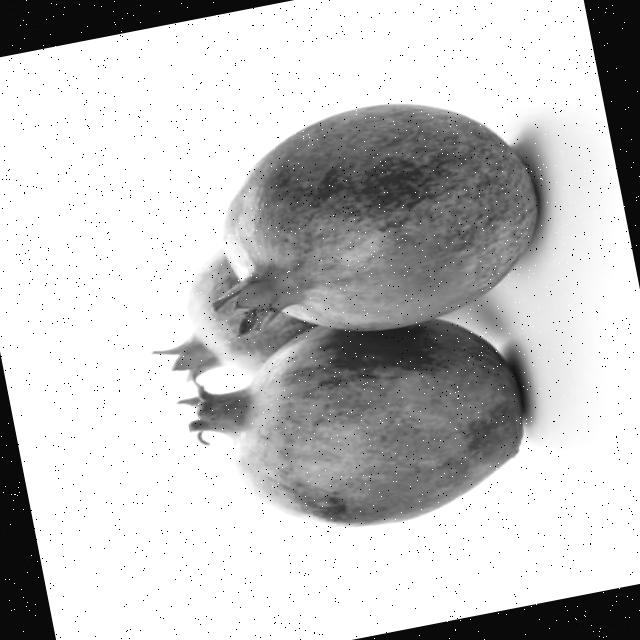Ripe: (174, 74, 563, 366), (166, 304, 544, 559)
